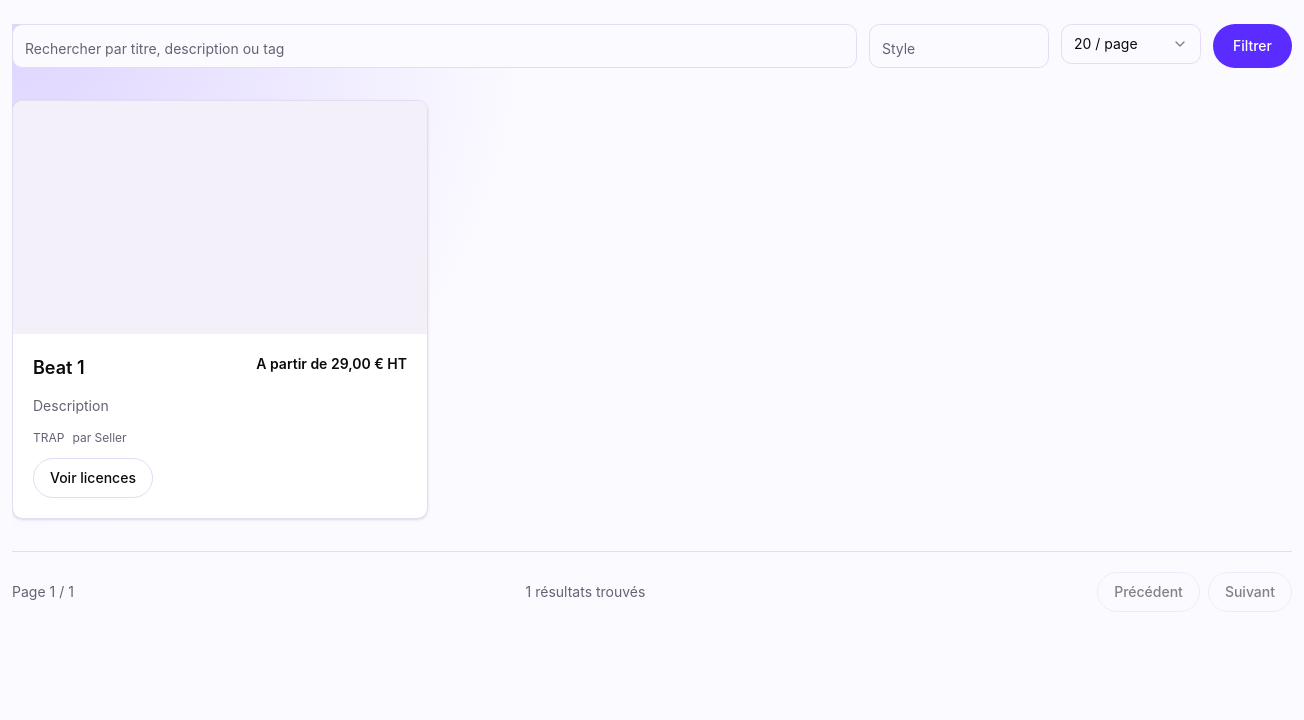
BeatsCatalogClient › loads filtered beats without navigating the whole page
expect the heading "Beat 1" is shown: met, box [33,354,84,382]
Type "filtered" into the field with placeholder "Rechercher par titre, description ou tag" at (434,46), box [12,24,857,68]
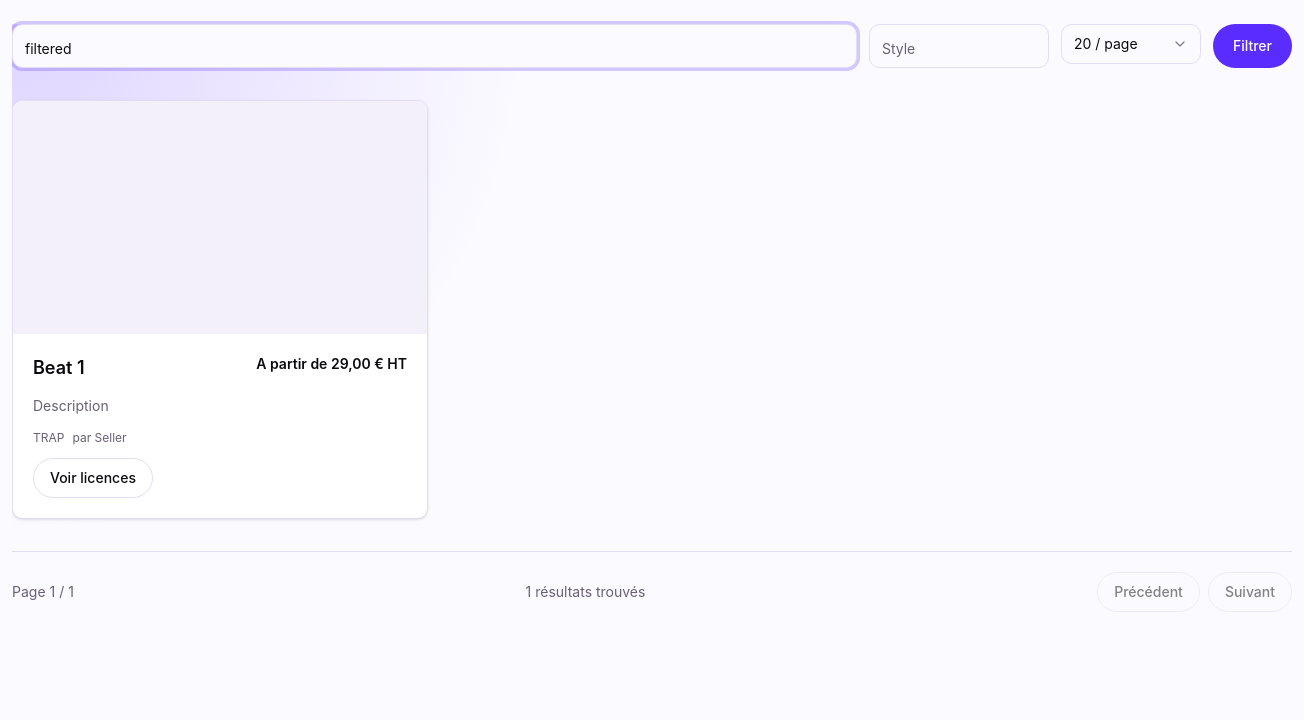
Click the button "Filtrer" at (1252,46), box [1213,24,1292,68]
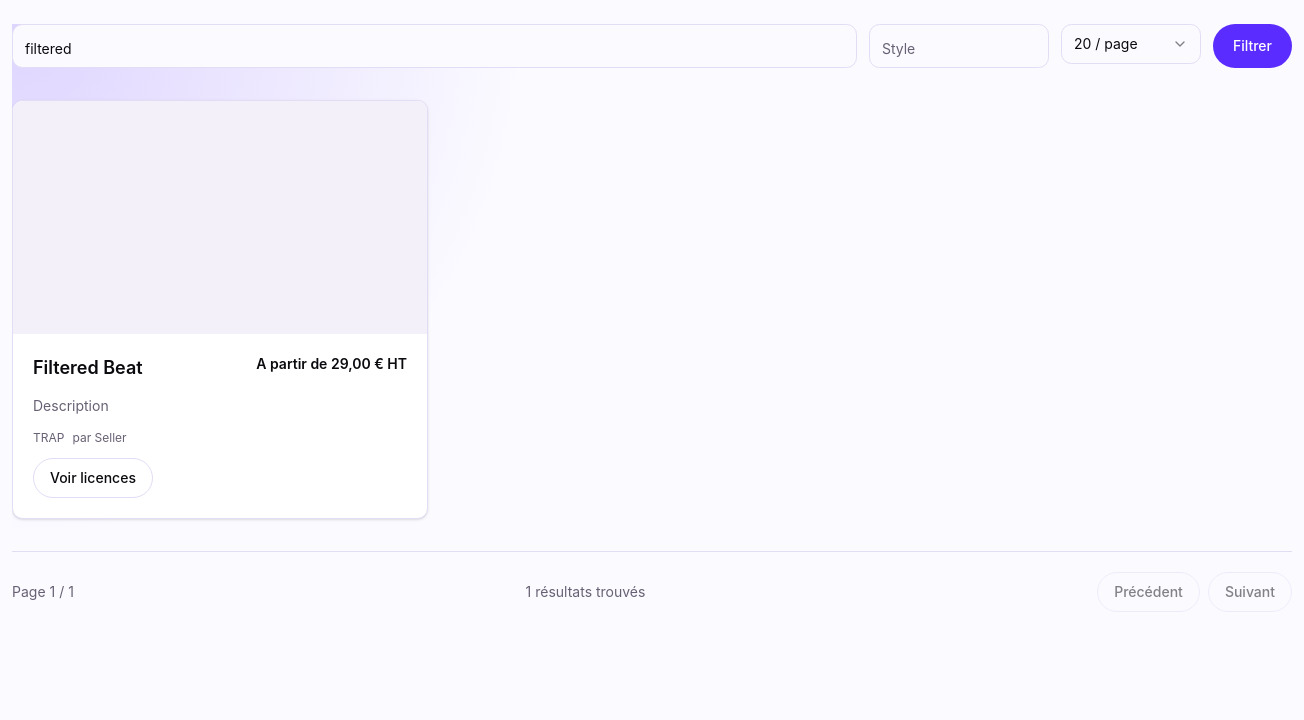
expect the heading "Filtered Beat" is shown: met, box [33,354,143,382]
